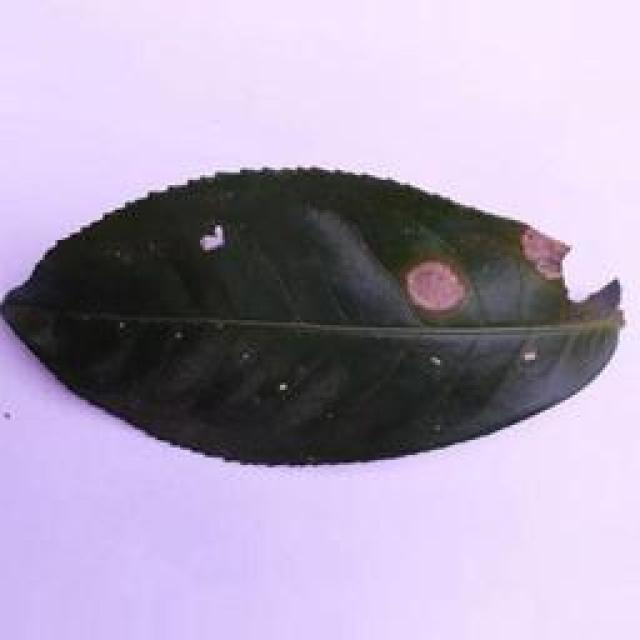Gray Blight: (0, 154, 628, 469)
